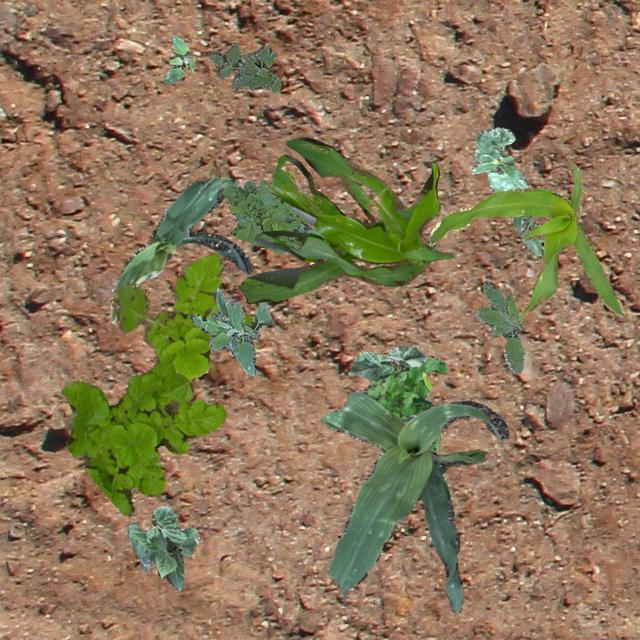crop: (320, 388, 508, 612), (236, 136, 454, 302), (428, 160, 624, 320), (108, 176, 252, 322), (125, 504, 198, 590), (470, 126, 528, 192), (348, 344, 426, 380), (511, 214, 541, 256)
weed: (58, 252, 252, 516), (362, 356, 446, 452), (222, 178, 322, 252), (188, 288, 270, 376), (476, 280, 524, 372), (208, 42, 280, 92), (162, 34, 194, 84)
